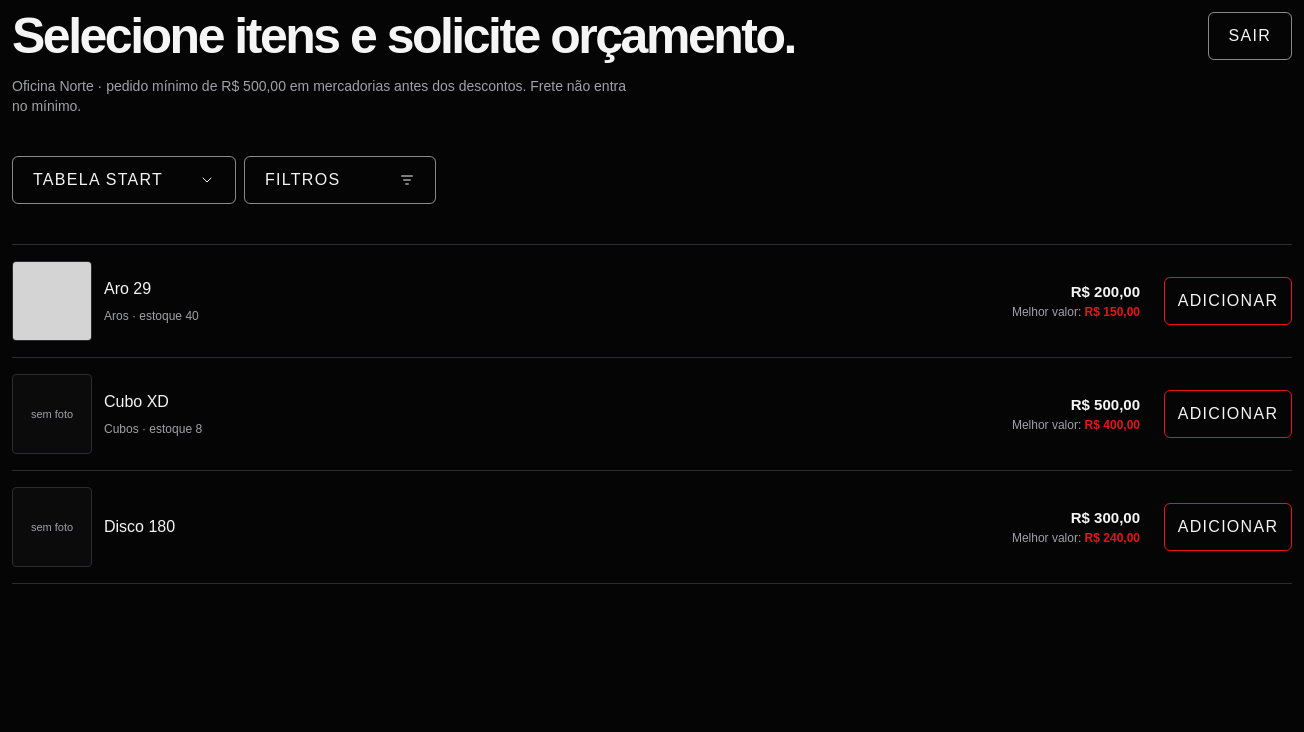
B2BCatalogPage catalog controls › expands the tier dropdown with the current tier selected
The image size is (1304, 732).
Click the button with aria-label "Tabela atual:" at [124, 180], box [12, 156, 236, 204]
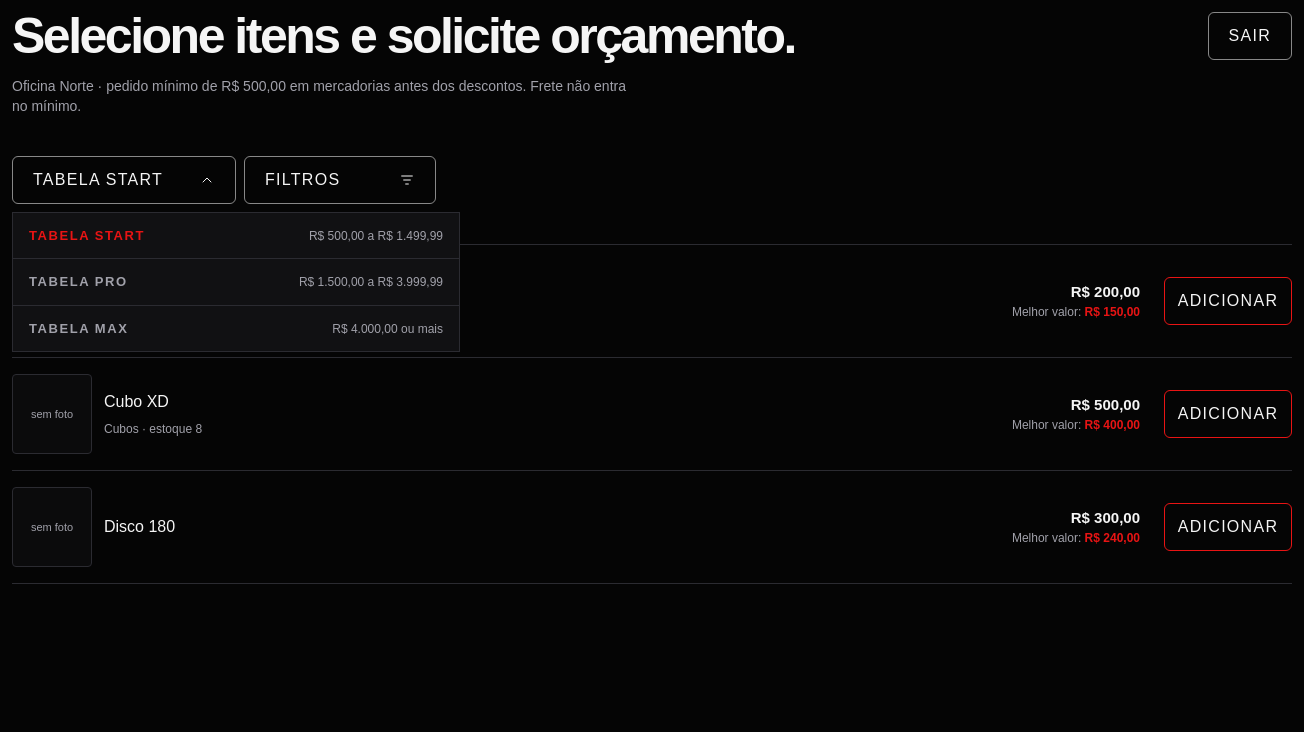
Expected: the list item "Tabela Start R$ 500,00 a R$ 1.499,99" is shown, [13, 213, 459, 259]
